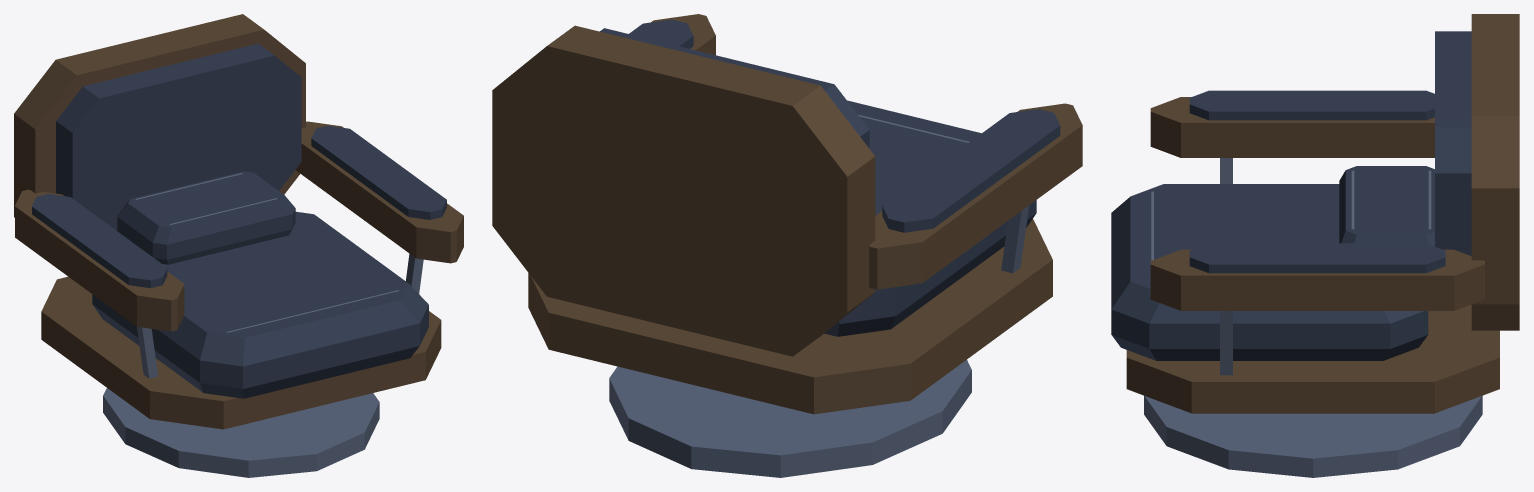
The model's file is res_lounge_armchair.glb.
The picture shows the model from 3 angles, left to right: view 1: azimuth 30°, elevation 25°; view 2: azimuth 150°, elevation 25°; view 3: azimuth 270°, elevation 25°; orthographic projection. The views are drawn at different scales.
Parts seen in each view (by area): view 1: arm_leather, floating_shell, arm_support, stitched_welt; view 2: floating_shell, arm_support, arm_leather; view 3: floating_shell, arm_leather, arm_support, stitched_welt.
Part boxes in pixels (bbox=[...]): arm_leather: bbox=[32, 43, 446, 398]; floating_shell: bbox=[14, 14, 463, 429]; arm_support: bbox=[103, 253, 423, 477]; stitched_welt: bbox=[135, 173, 398, 332]; floating_shell: bbox=[492, 14, 1082, 414]; arm_support: bbox=[609, 205, 1029, 477]; arm_leather: bbox=[600, 19, 1060, 336]; floating_shell: bbox=[1126, 14, 1519, 413]; arm_leather: bbox=[1111, 31, 1471, 360]; arm_support: bbox=[1144, 158, 1482, 477]; stitched_welt: bbox=[1151, 170, 1431, 260].
Size of the model in its own units: 1.12 by 1.02 by 1.08.
